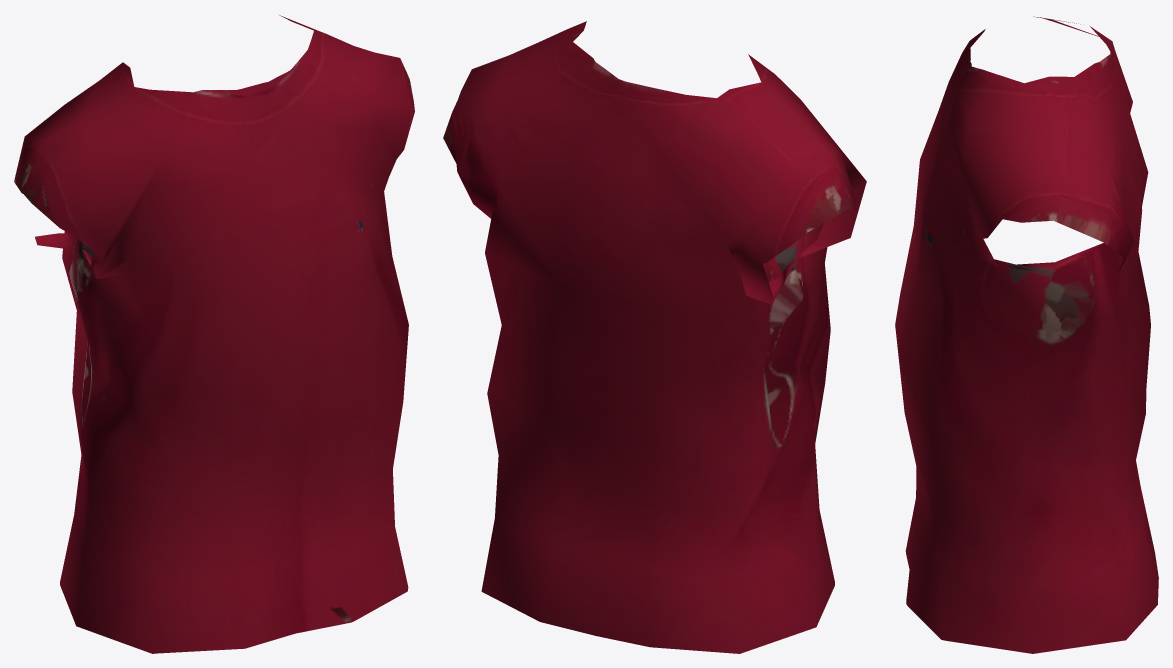
Rendered from 031-shell.glb.
3 renders of one model, left to right at view 1: azimuth 30°, elevation 25°; view 2: azimuth 150°, elevation 25°; view 3: azimuth 270°, elevation 25°, orthographic. The views are drawn at different scales.
Parts seen in each view (by area): view 1: geometry_0; view 2: geometry_0; view 3: geometry_0.
Part boxes in pixels (x1,y1,x2,y2): geometry_0: (14,15,414,653); geometry_0: (443,21,866,653); geometry_0: (895,16,1158,653).
Bounding box in the file's own units: 0.492 × 0.6631 × 0.2969.
Materials: 1 (1 with a texture image).
